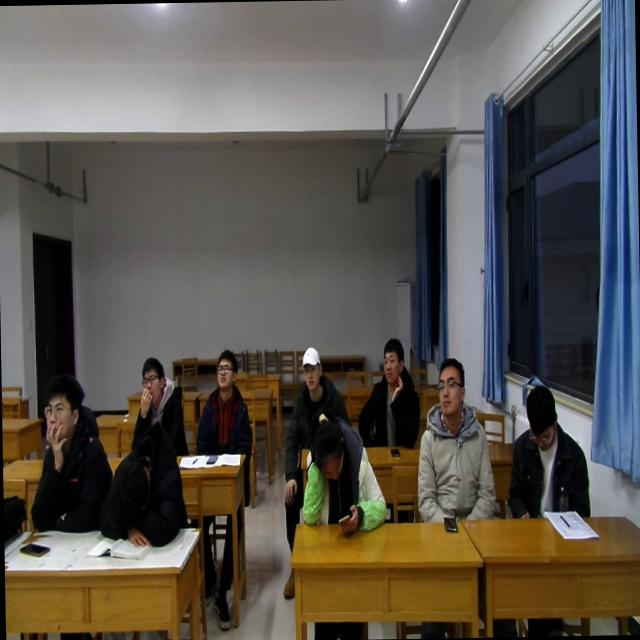bow: (95, 418, 189, 548), (300, 408, 388, 536)
down: (520, 379, 564, 452), (307, 408, 350, 482)
lookup: (38, 364, 86, 450), (431, 352, 468, 418), (378, 332, 408, 393), (136, 353, 164, 408), (296, 336, 323, 392), (210, 342, 238, 394)
sit: (413, 350, 499, 524), (29, 374, 113, 535), (506, 380, 591, 521), (354, 334, 425, 450), (284, 342, 350, 450), (128, 352, 191, 460), (192, 347, 254, 455)
